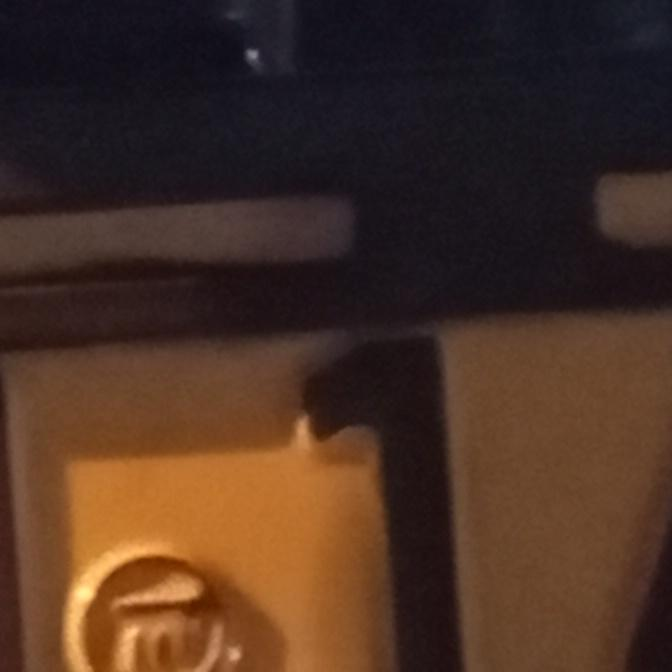plates: (0, 63, 672, 672)
